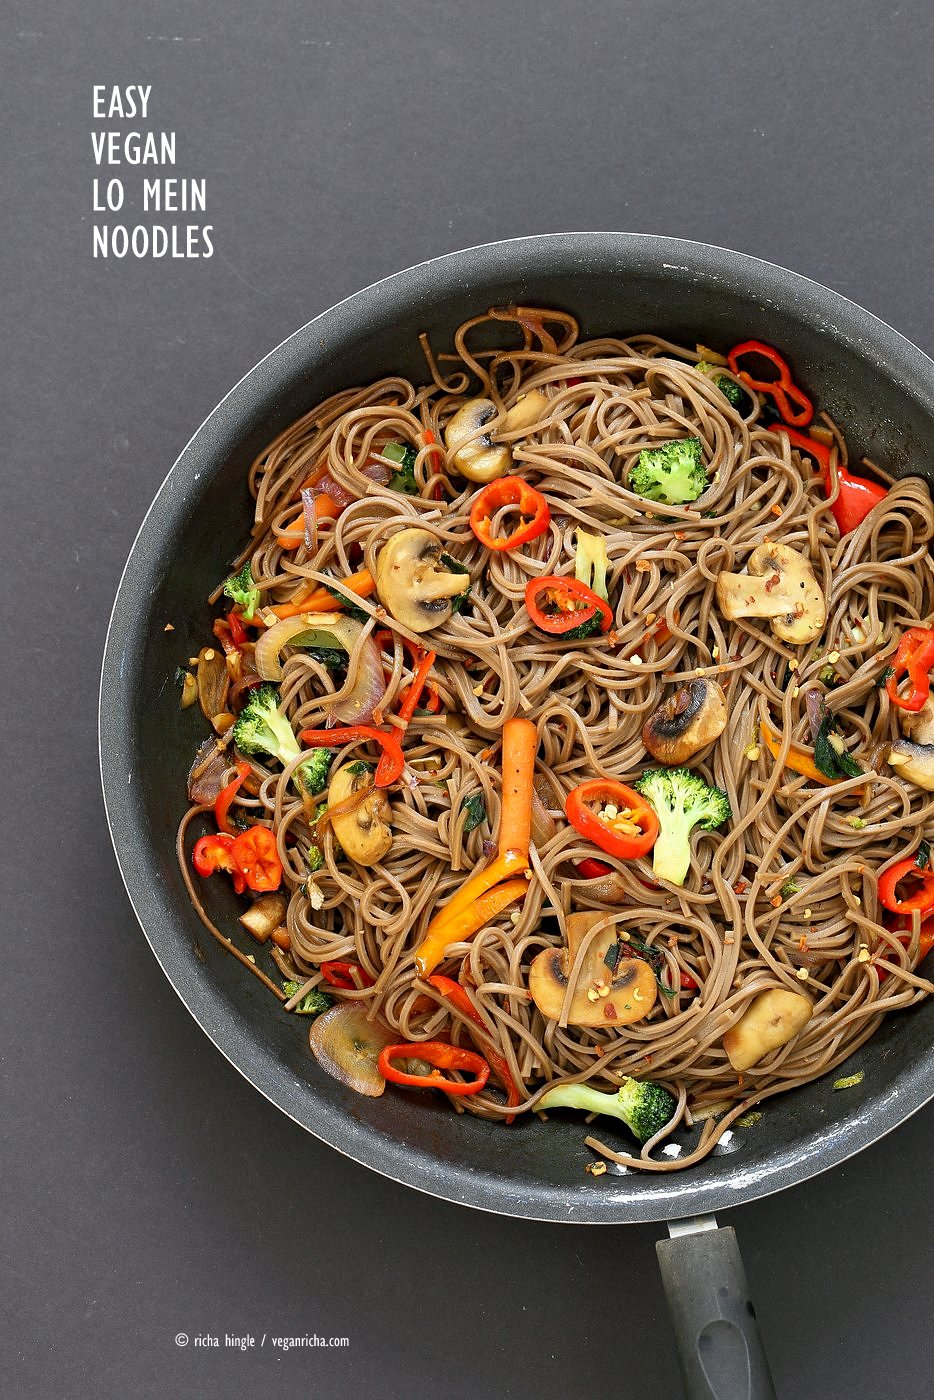Soba: (235, 294, 934, 1156)
